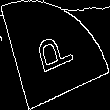P_W: (31, 29, 79, 81)
